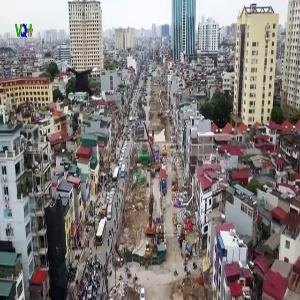drone: (61, 56, 113, 108)
